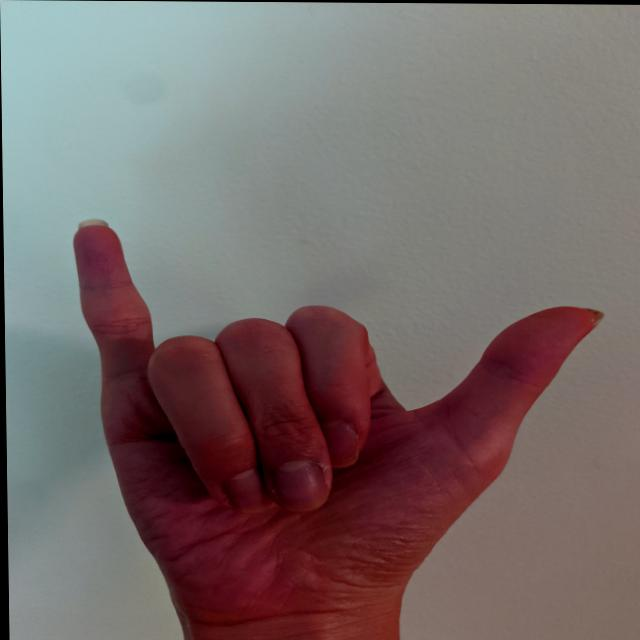Y: (63, 212, 618, 636)
